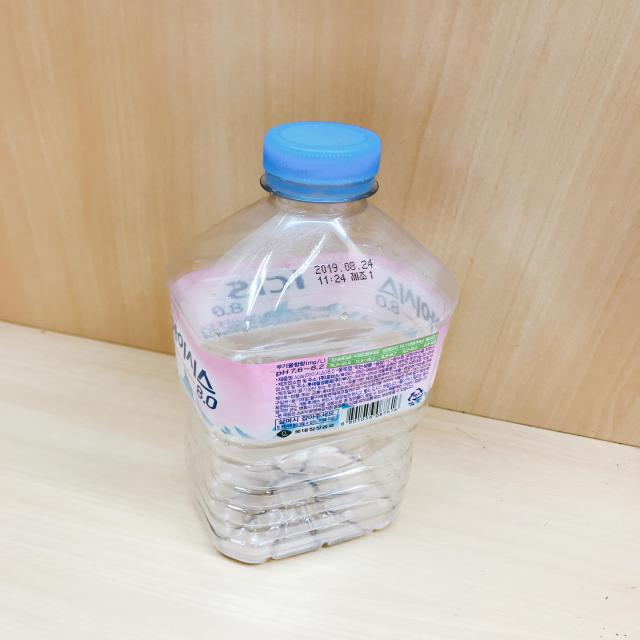bottle: (164, 90, 447, 570)
